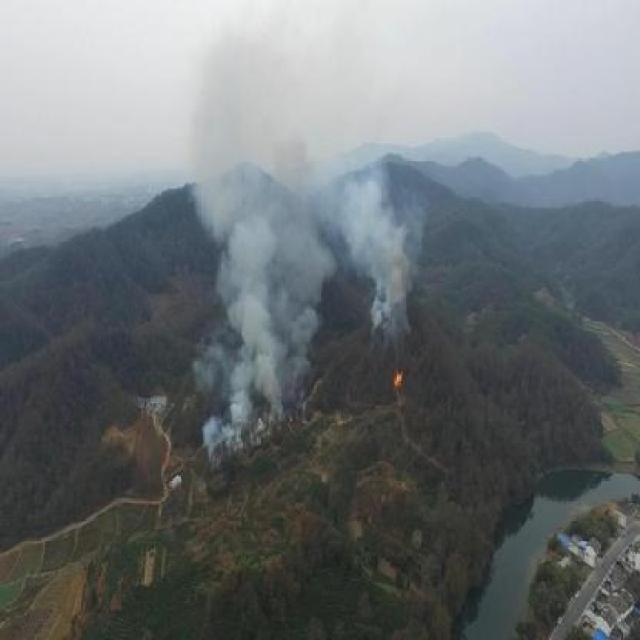Fire: (393, 364, 405, 386)
Smoke: (191, 9, 332, 458), (347, 141, 418, 343)
